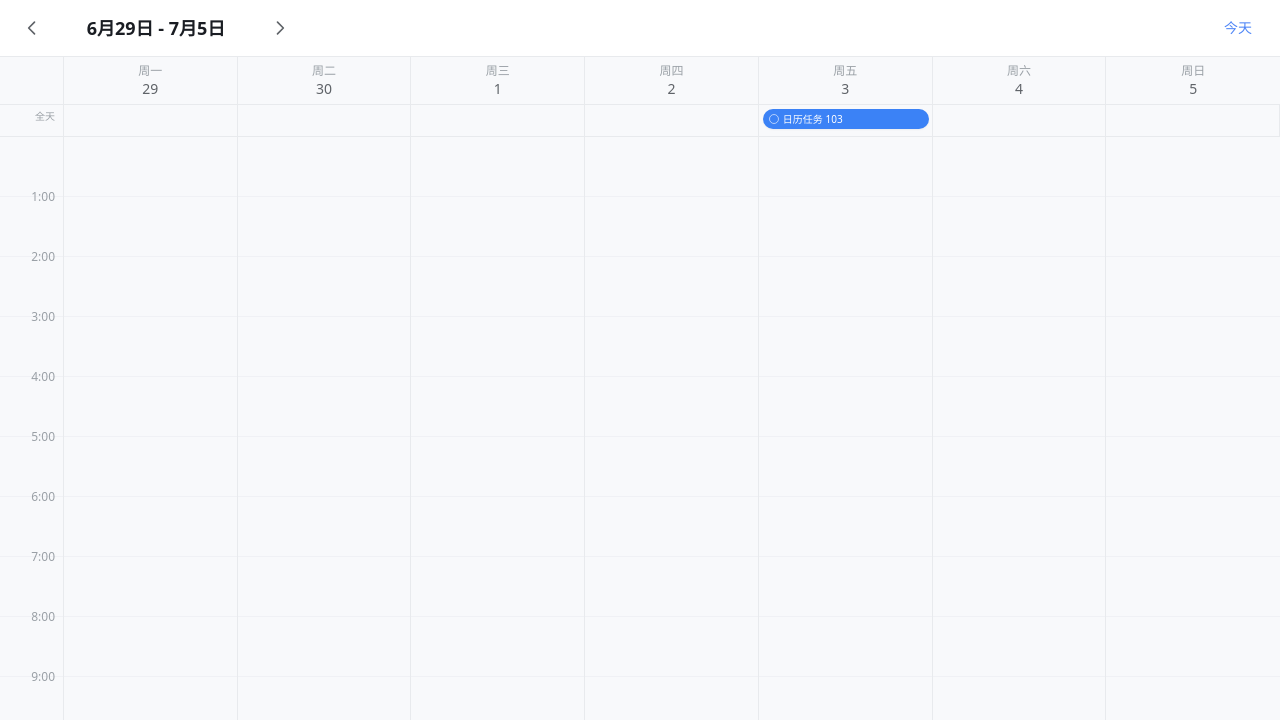
日历任务右键菜单 › 周视图：右键全天任务条打开菜单
Right-click the element with test id "calendar-all-day-task-103" at coordinates (846, 119), box [763,109,928,129]
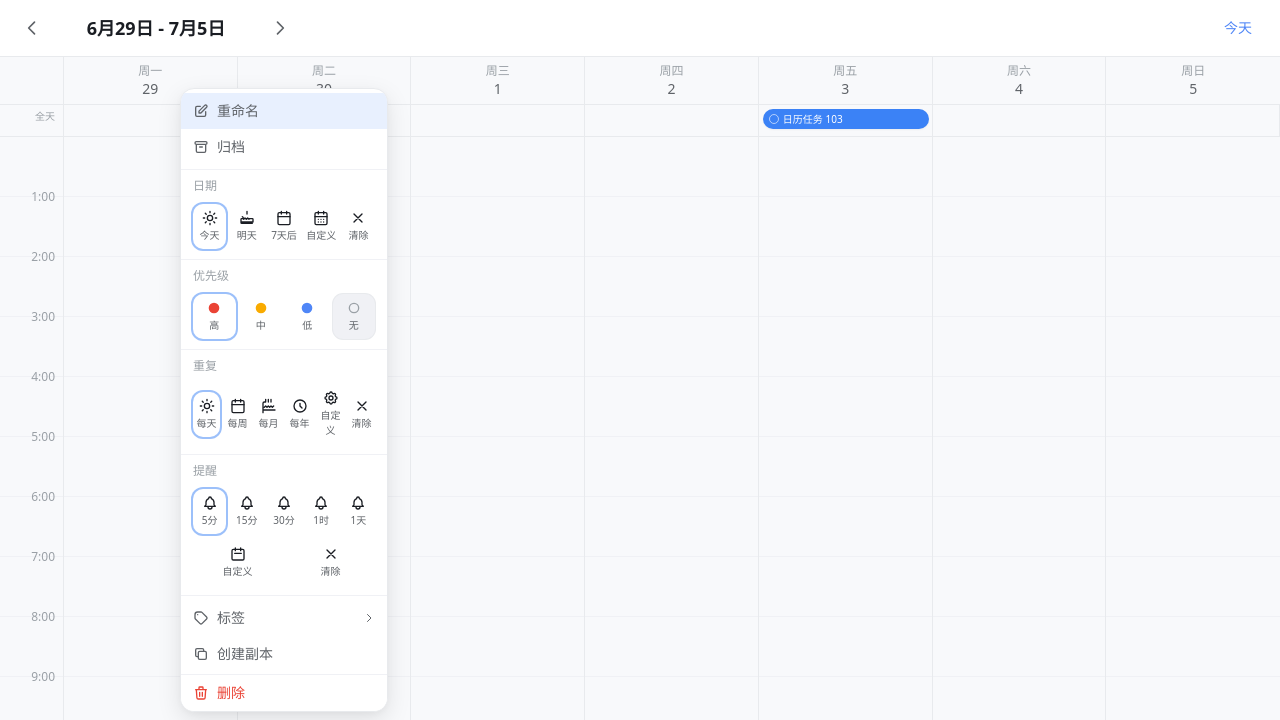
Result: the element with test id "task-context-menu" is shown at [180,88,388,712]
